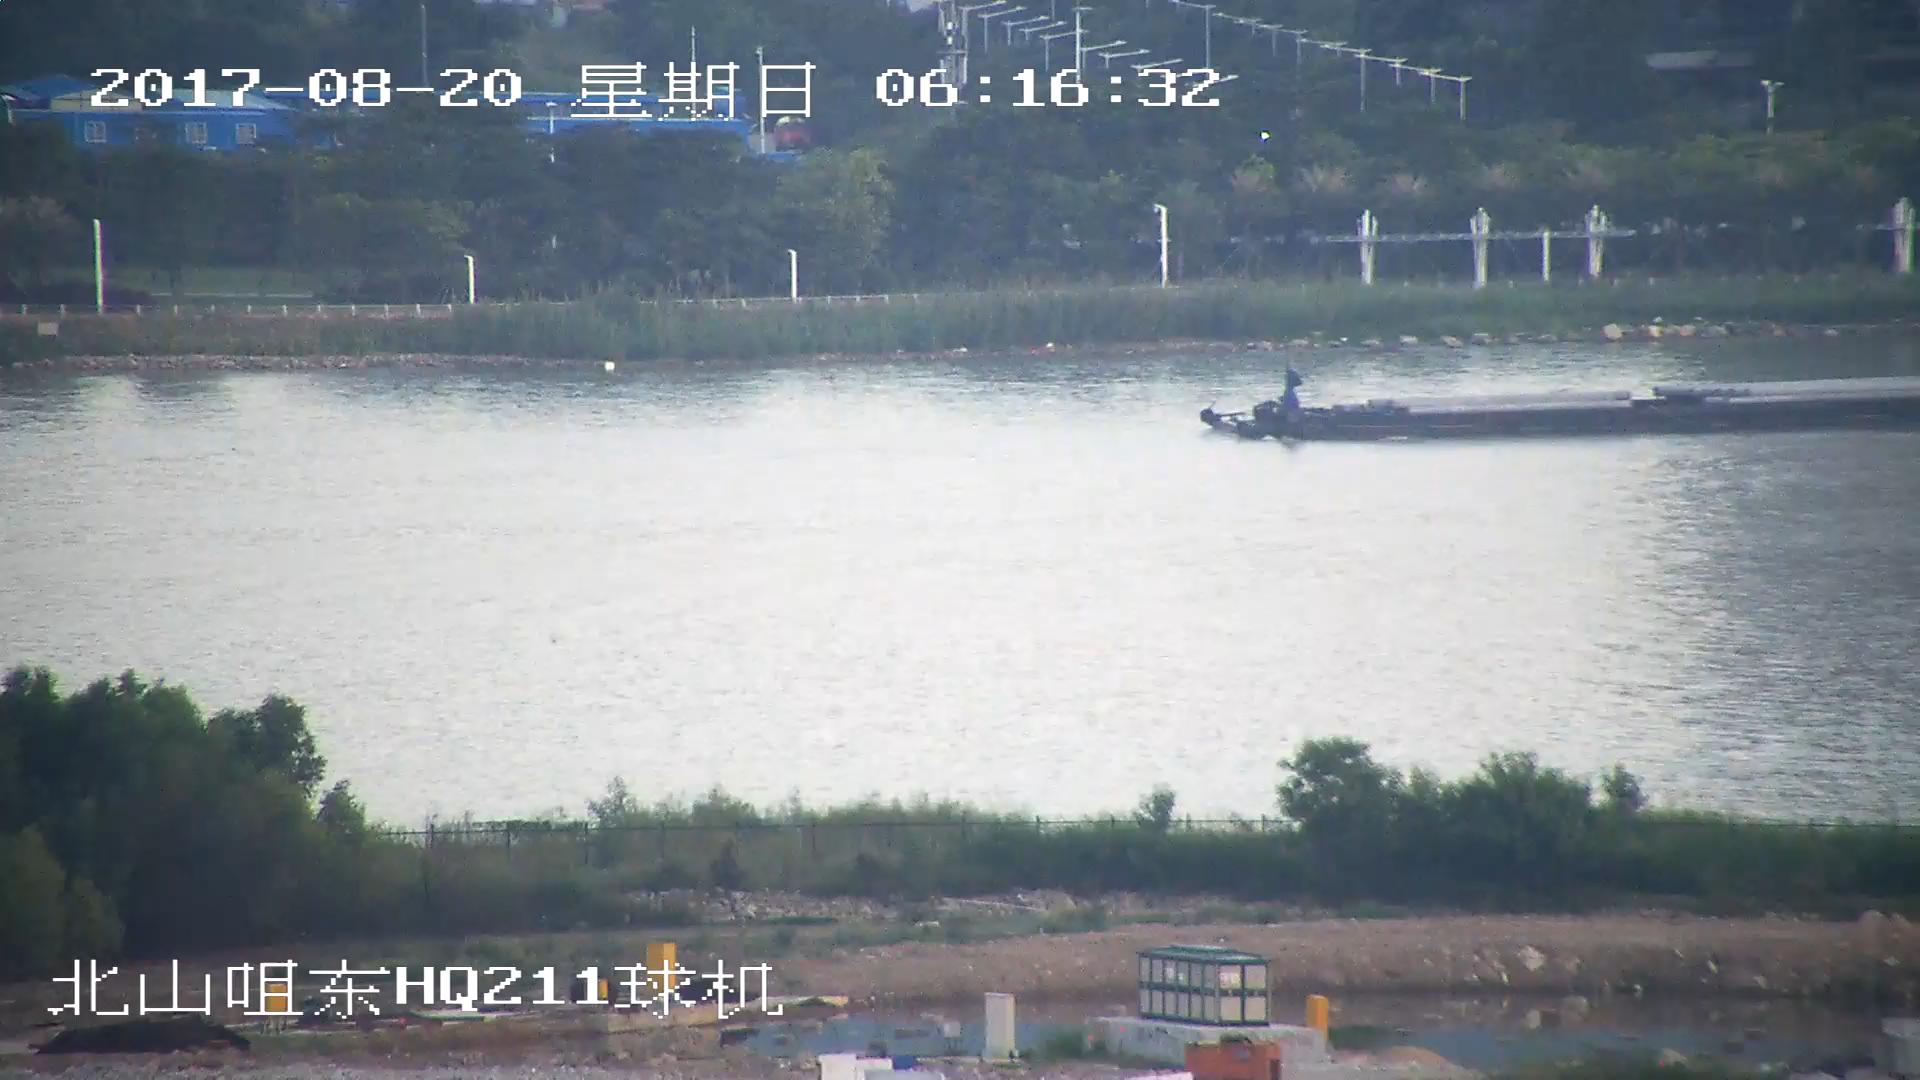bulk cargo carrier: (1195, 376, 1920, 439)
